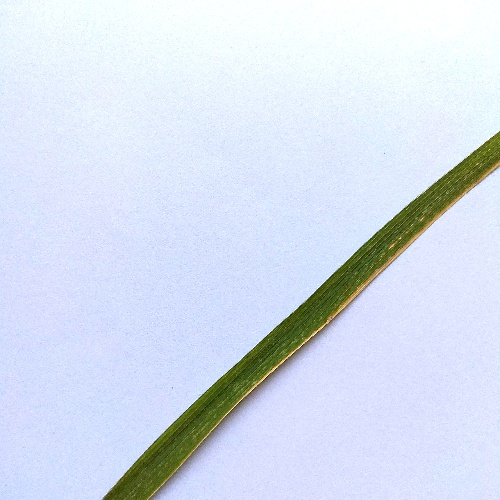Busuk Leher: (382, 210, 422, 256), (358, 257, 395, 296), (427, 200, 461, 225)
